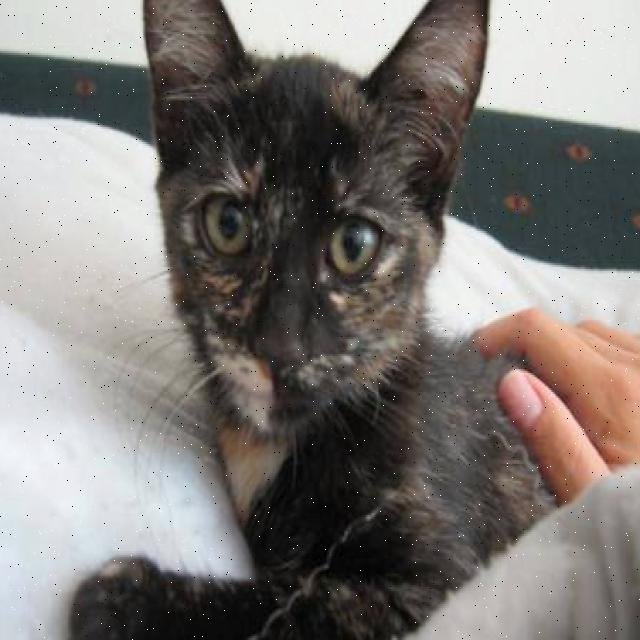Cat: (122, 0, 497, 443)
